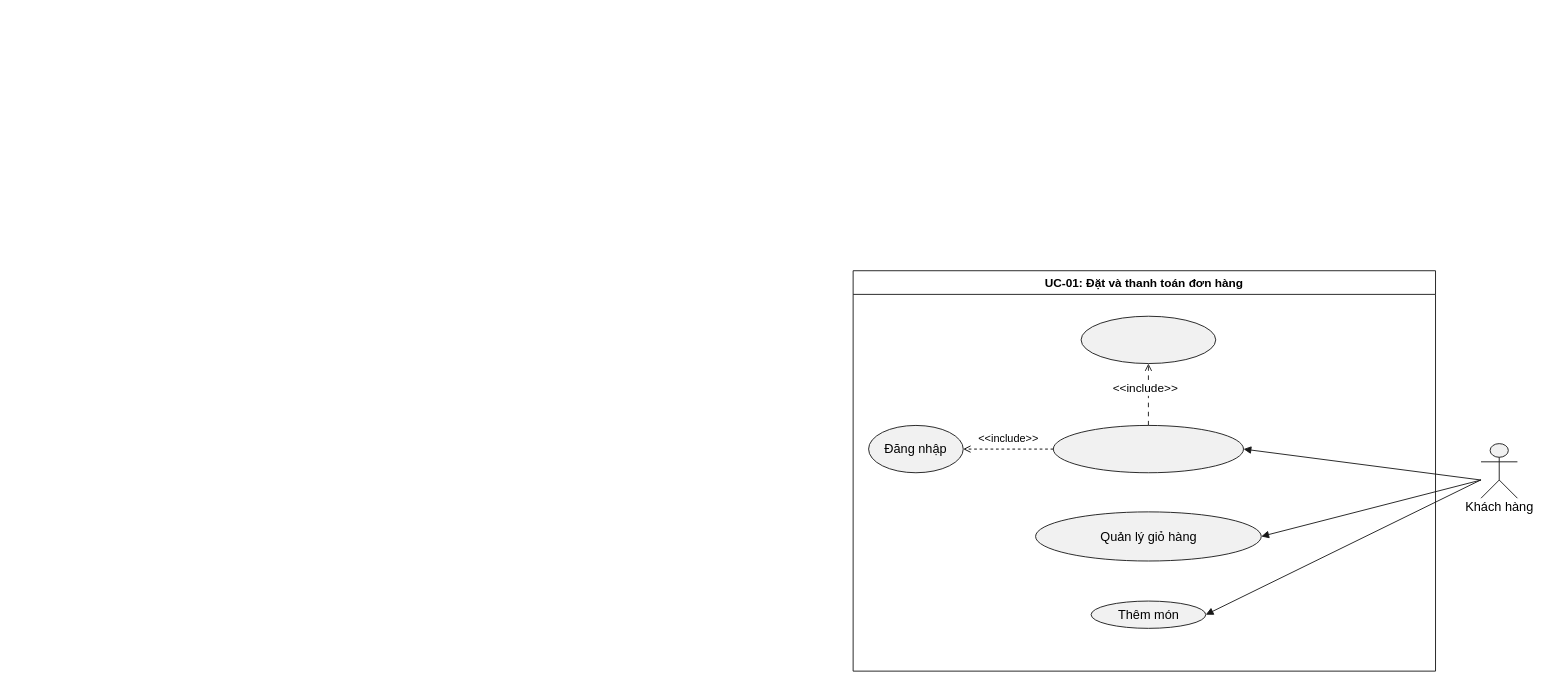
Image size: 1554x687. Some labels were removed from this diagram. The shapes that lost their labels are listed below. From the top down, each one's box as (x1, y1, x2, y2) in pixels, then its label:
(1080, 315, 1216, 364): Thanh toán
(1052, 425, 1244, 473): Đặt đơn
